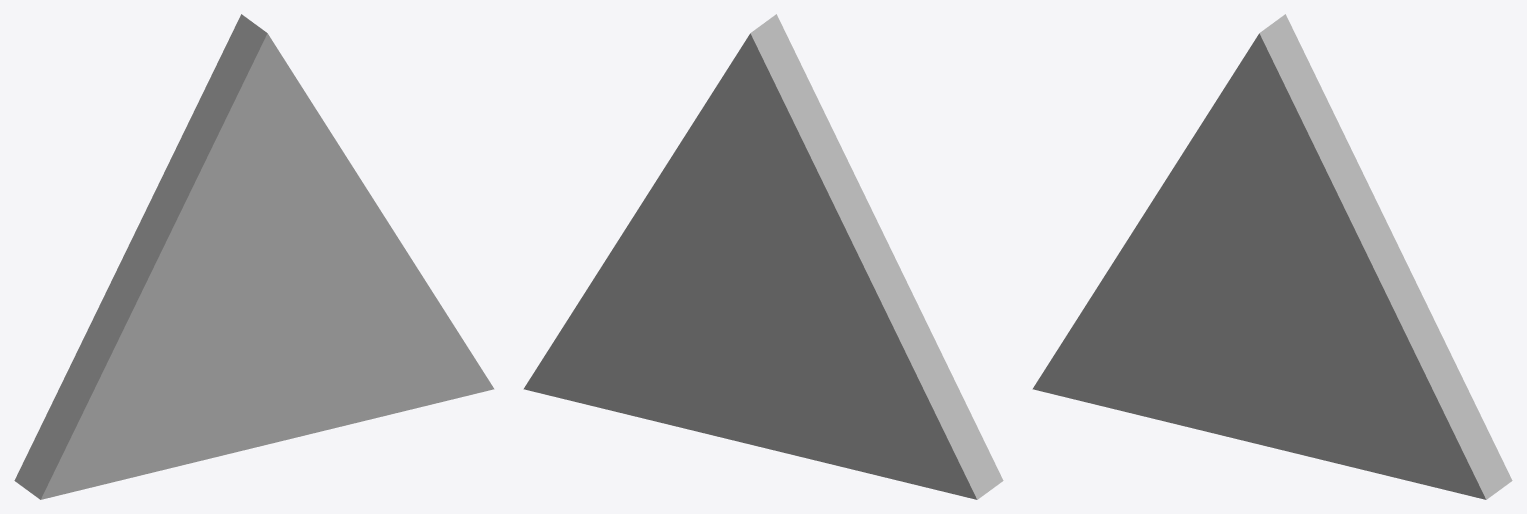
Rendered from ffsfs'.fbx.
3 renders of one model, left to right at view 1: azimuth 30°, elevation 25°; view 2: azimuth 150°, elevation 25°; view 3: azimuth 330°, elevation 25°, orthographic.
Visible parts, largest first — view 1: node_id30; view 2: node_id30; view 3: node_id30.
Part boxes in pixels (<box>): node_id30: <box>14,14,494,499</box>; node_id30: <box>523,14,1003,499</box>; node_id30: <box>1032,14,1512,499</box>.
Size of the model in its own units: 0.512 by 0.4434 by 0.0512.
Materials: 1 (1 with a texture image).
